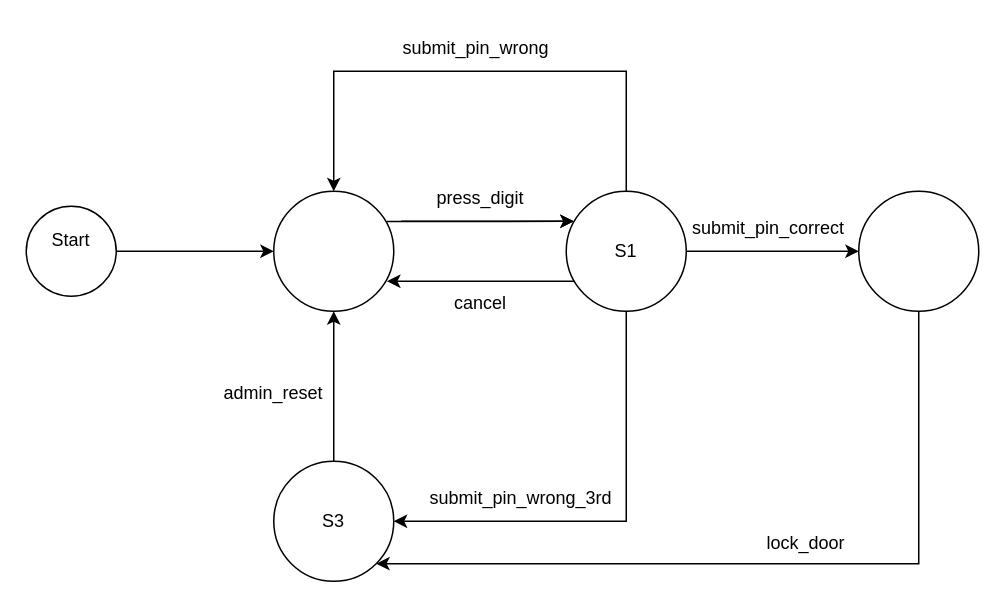
This 1005x608 diagram has some shape labels left out. The box of each missing label's shape, as (x1, y1, x2, y2) in pixels:
S0: (272, 190, 394, 311)
S2: (857, 190, 979, 311)
